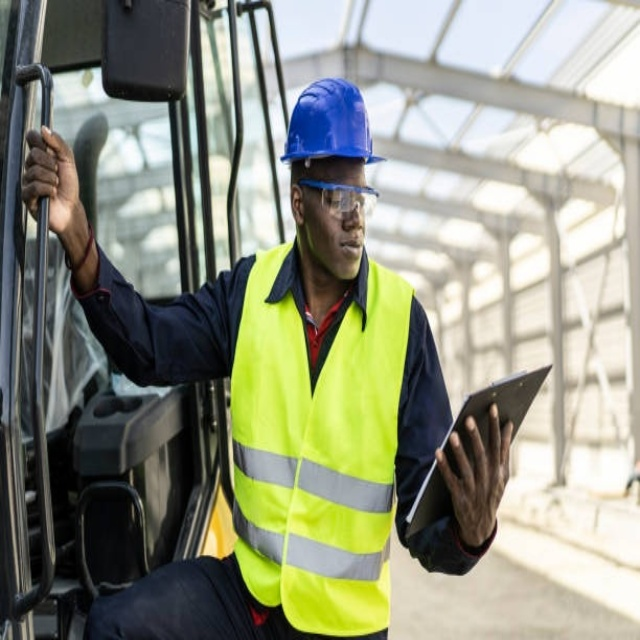Gafas: (299, 182, 378, 222)
Sin_guantes: (435, 402, 513, 546), (21, 122, 82, 235)
Sin_mascara: (335, 234, 365, 276)
